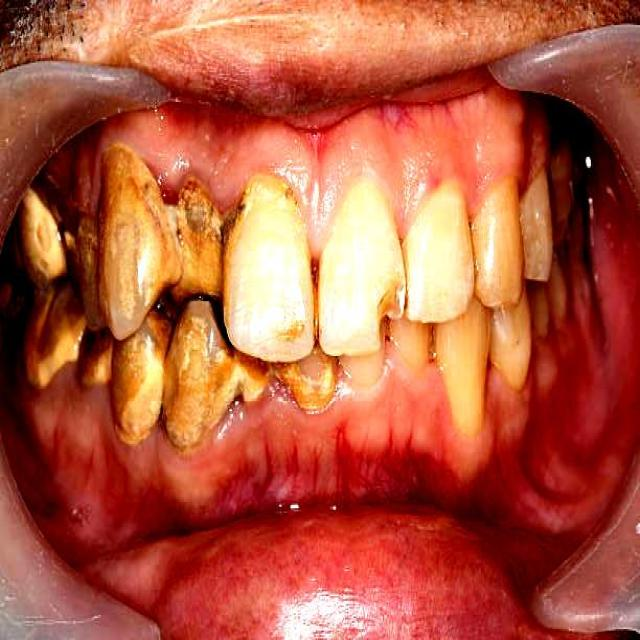caries: (363, 262, 411, 356)
